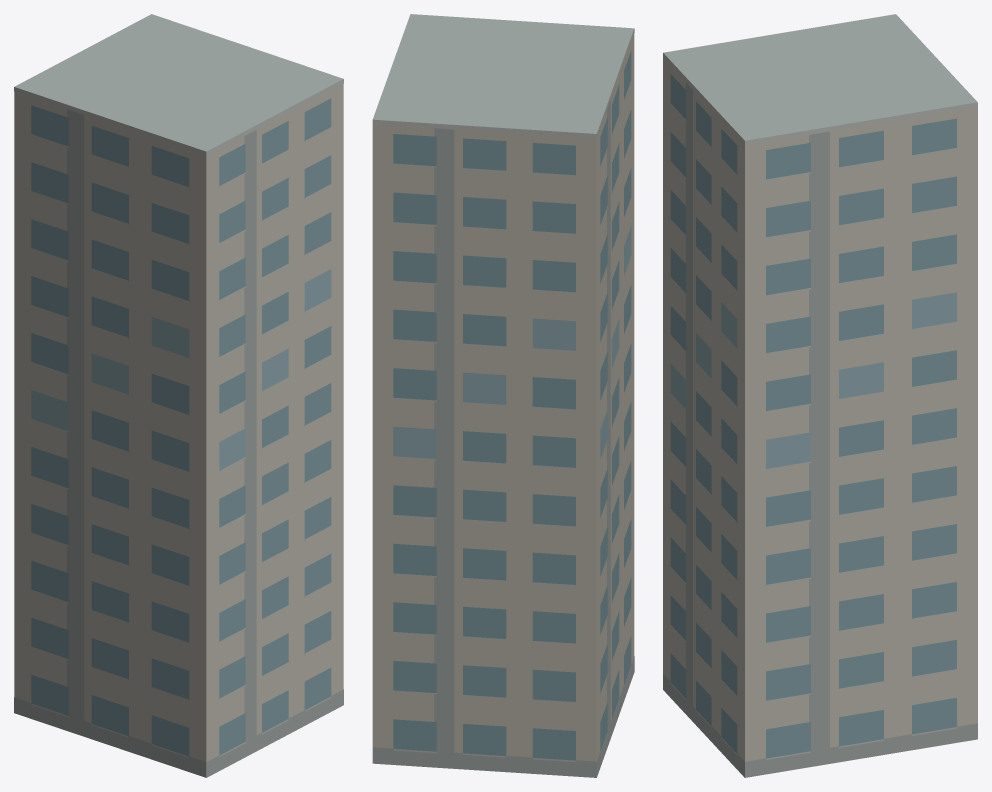
File: residential-5f9885ee-1368-45fb-bde1-760d418e15d3.glb
3 views of the same model, side by side, from view 1: azimuth 30°, elevation 25°; view 2: azimuth 150°, elevation 25°; view 3: azimuth 270°, elevation 25° (orthographic). The views are drawn at different scales.
Visible parts, largest first — view 1: residential-5f9885ee-1368-45fb-bde1-760d418e15d3.tmp; view 2: residential-5f9885ee-1368-45fb-bde1-760d418e15d3.tmp; view 3: residential-5f9885ee-1368-45fb-bde1-760d418e15d3.tmp.
Part boxes in pixels (<box>): residential-5f9885ee-1368-45fb-bde1-760d418e15d3.tmp: <box>14,14,343,777</box>; residential-5f9885ee-1368-45fb-bde1-760d418e15d3.tmp: <box>372,14,634,777</box>; residential-5f9885ee-1368-45fb-bde1-760d418e15d3.tmp: <box>663,14,977,777</box>.
Size of the model in its own units: 14.09 by 33 by 14.78.
